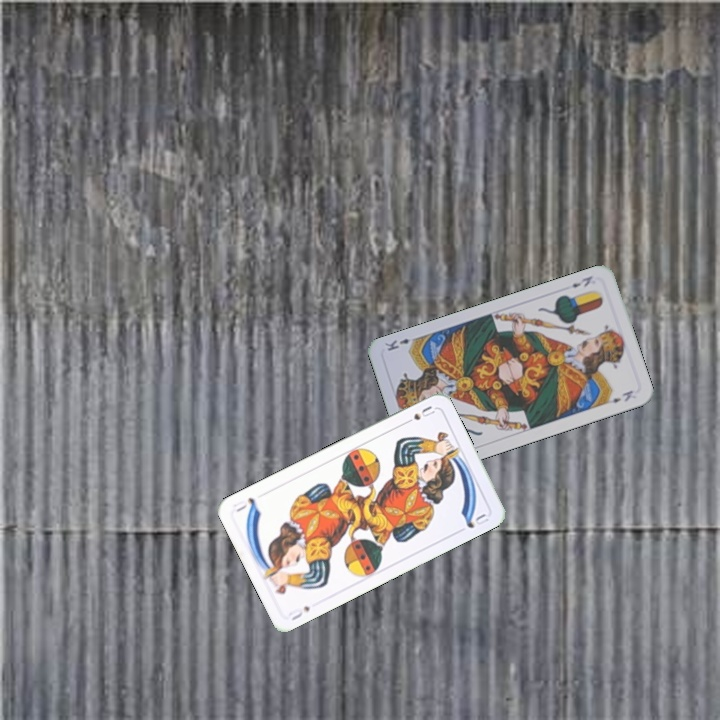EK: (567, 271, 595, 290)
SU: (399, 402, 438, 427), (285, 602, 313, 624)
